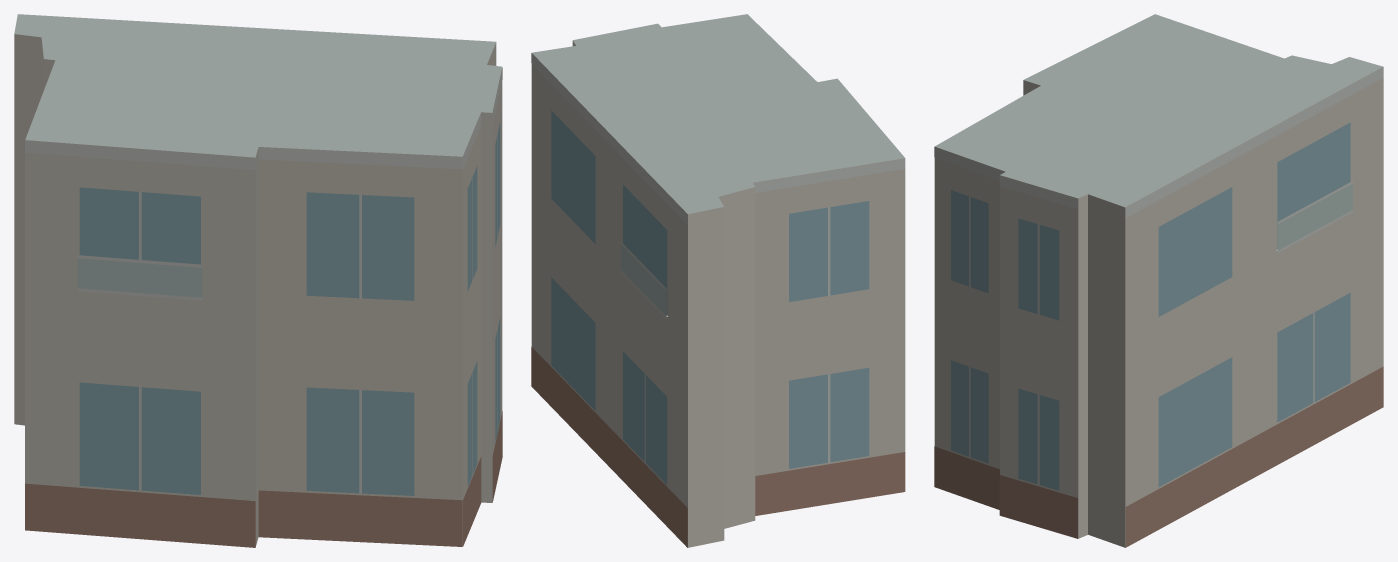
File: survey-upis-33026762.glb
3 renders of one model, left to right at view 1: azimuth 30°, elevation 25°; view 2: azimuth 150°, elevation 25°; view 3: azimuth 270°, elevation 25°, orthographic. The views are drawn at different scales.
Visible parts, largest first — view 1: survey-upis-33026762.tmp; view 2: survey-upis-33026762.tmp; view 3: survey-upis-33026762.tmp.
Boxes of the visible parts, <box> form: survey-upis-33026762.tmp: <box>14,14,502,547</box>; survey-upis-33026762.tmp: <box>531,14,905,547</box>; survey-upis-33026762.tmp: <box>934,14,1383,547</box>.
Size of the model in its own units: 9.27 by 7.6 by 9.09.
